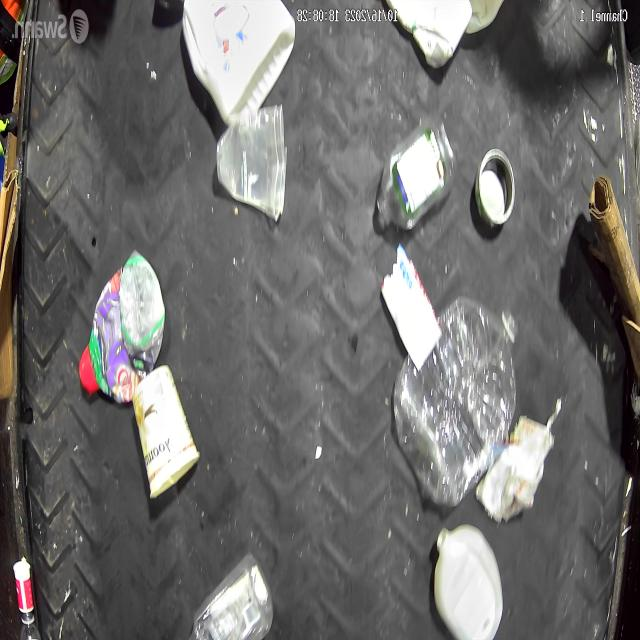can: (476, 149, 514, 228)
milk_jug: (180, 0, 296, 118)
plastic_bottle: (392, 298, 520, 502), (80, 251, 165, 397)
